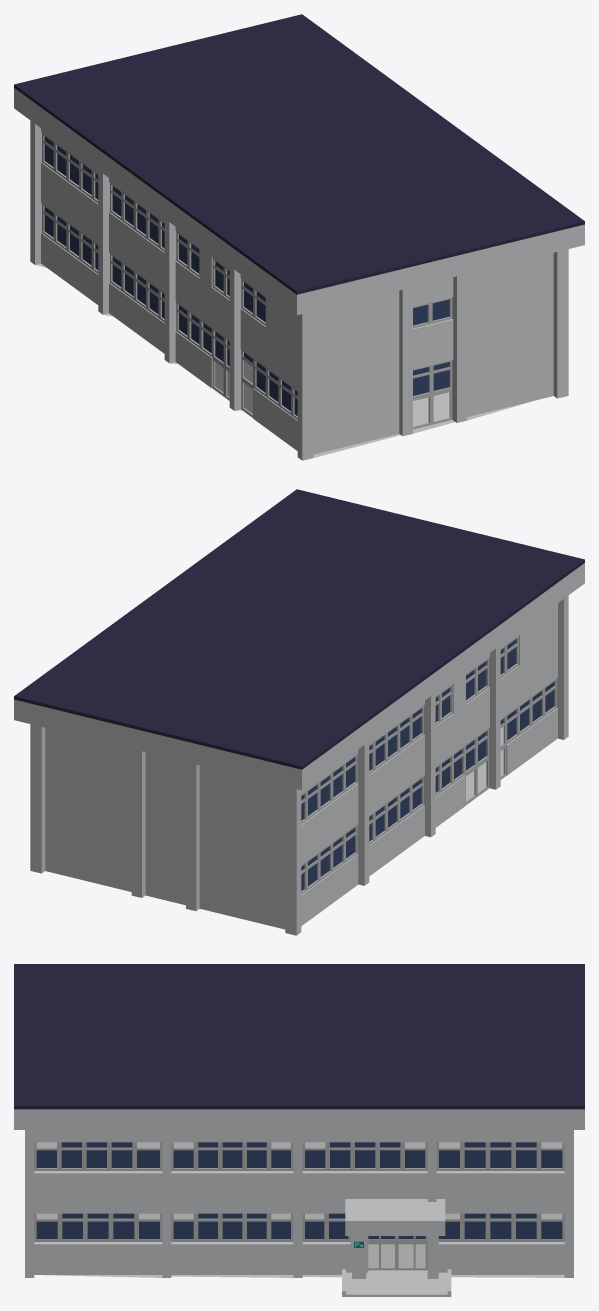
Rendered from Building_P.fbx.
3 renders of one model, top to bottom at view 1: azimuth 30°, elevation 25°; view 2: azimuth 150°, elevation 25°; view 3: azimuth 270°, elevation 25°, orthographic.
Visible parts, largest first — view 1: Building_P; view 2: Building_P; view 3: Building_P.
Part boxes in pixels (x1,y1,x2,y2): Building_P: (14,14,584,460); Building_P: (14,489,584,935); Building_P: (14,964,584,1296).
Size of the model in its own units: 15.96 by 8.48 by 24.73.
